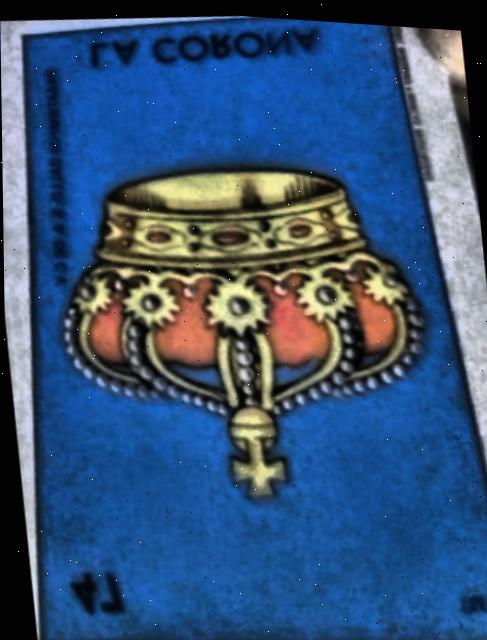La Corona: (27, 17, 487, 640)
